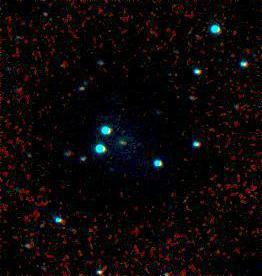star: (47, 51, 77, 81)
